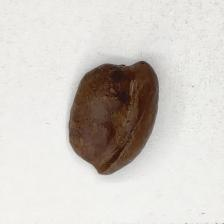NG: (68, 62, 151, 172)
